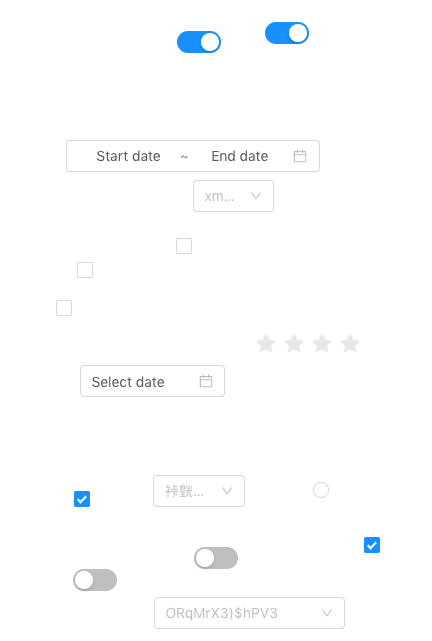Checkbox: (364, 534, 380, 555), (56, 297, 72, 318), (74, 488, 90, 509), (77, 259, 93, 280), (176, 235, 192, 256)
DatePicker: (80, 365, 225, 397)
Radio: (313, 479, 329, 499)
RangePicker: (66, 140, 320, 172)
Rate: (256, 327, 376, 359)
Select: (154, 597, 345, 629), (153, 475, 245, 507), (193, 180, 274, 212)
Switch: (265, 21, 309, 45), (73, 568, 117, 592), (194, 546, 238, 570), (177, 30, 221, 54)
